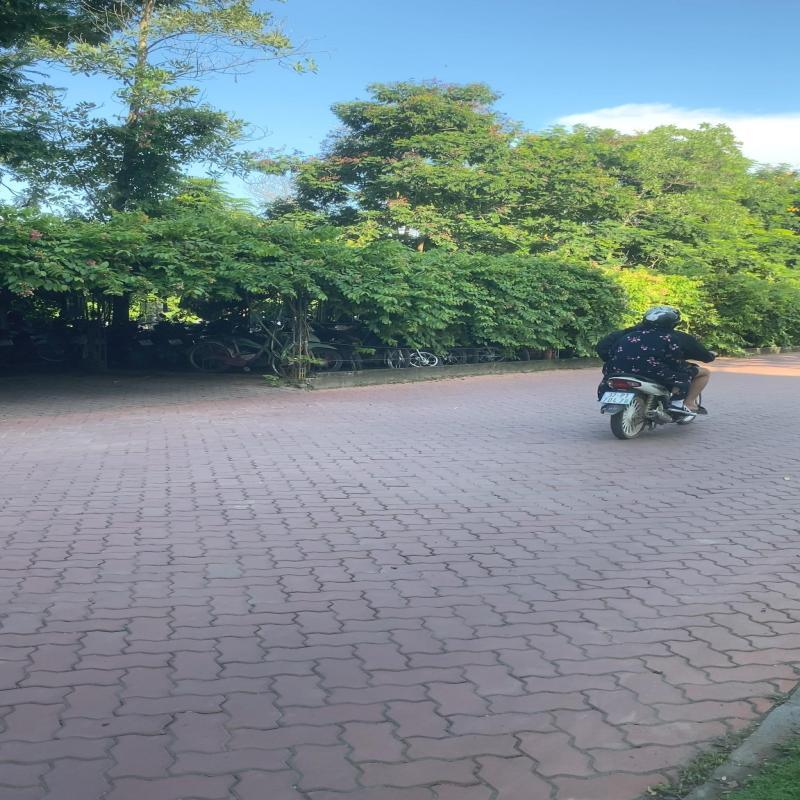helmet: (644, 310, 684, 327)
licenseplate: (600, 390, 636, 406)
motorcyclist: (596, 305, 714, 440)
